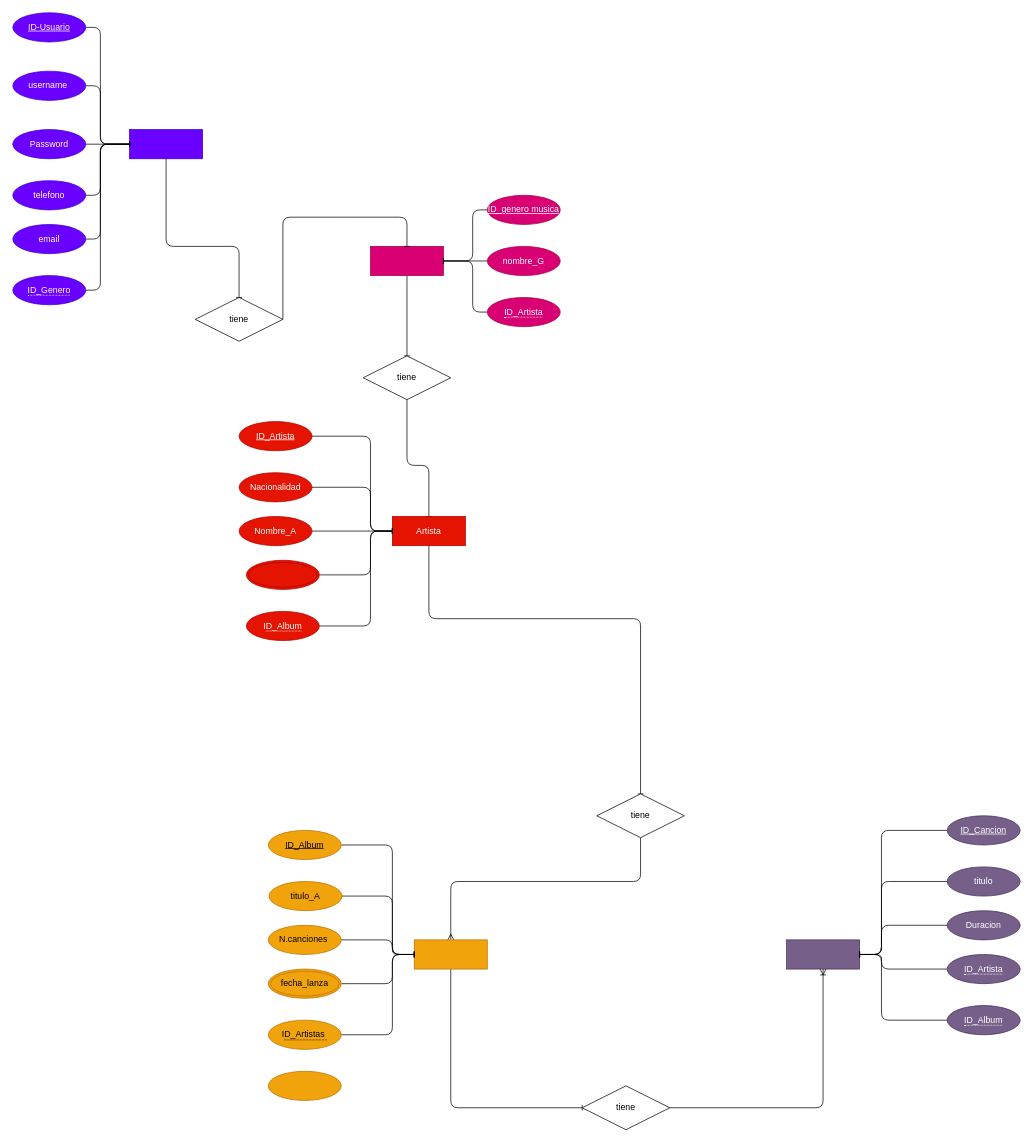
Image size: 1033x1142. Some labels were removed from this diagram. Each missing label, with the centre of its shape:
Album: point 450,954
Canciones: point 823,954
Fecha_Nac: point 282,574
Genero musica: point 406,261
ID_Canciones: point 304,1085
Usuario: point 166,144
